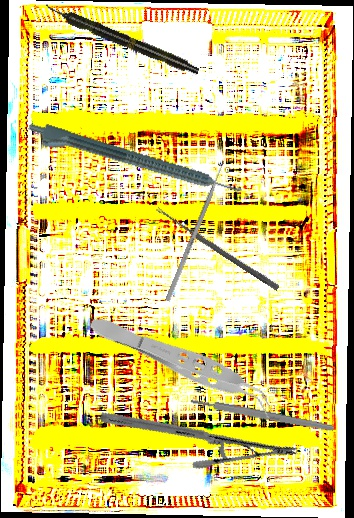Handpiece: (23, 118, 244, 208), (42, 0, 202, 78)
Needle Holder: (98, 356, 300, 513)
Pusher: (165, 153, 229, 302)
Scalpel Handle: (190, 396, 335, 433)
Surgical Spoon: (154, 206, 281, 291)
Tissue Forceps: (84, 307, 282, 421)
